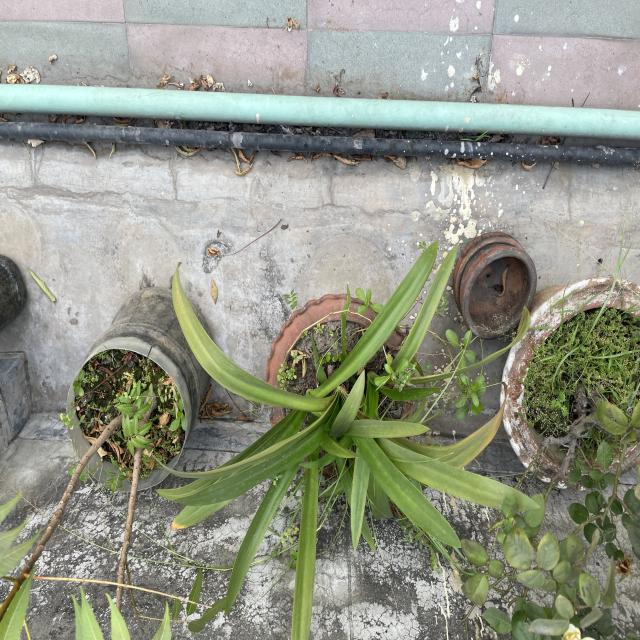Breeding Place: (63, 304, 207, 498), (502, 280, 640, 482), (262, 300, 415, 463), (456, 234, 532, 330), (0, 252, 26, 374)
